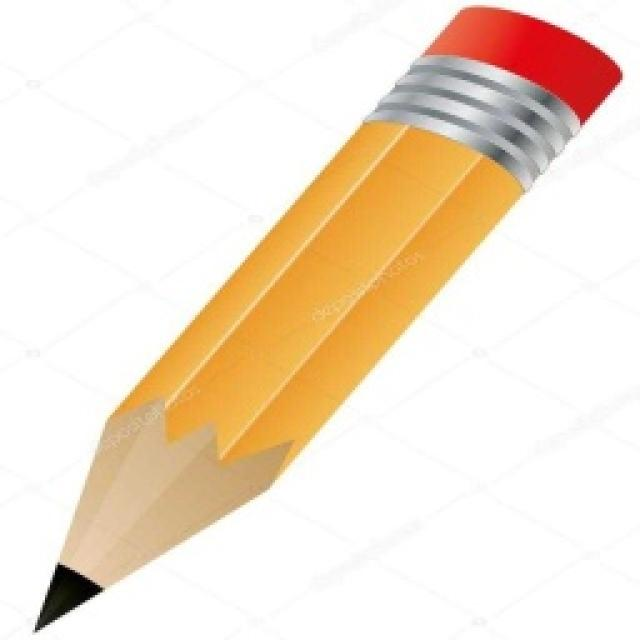pencil: (25, 0, 627, 635)
